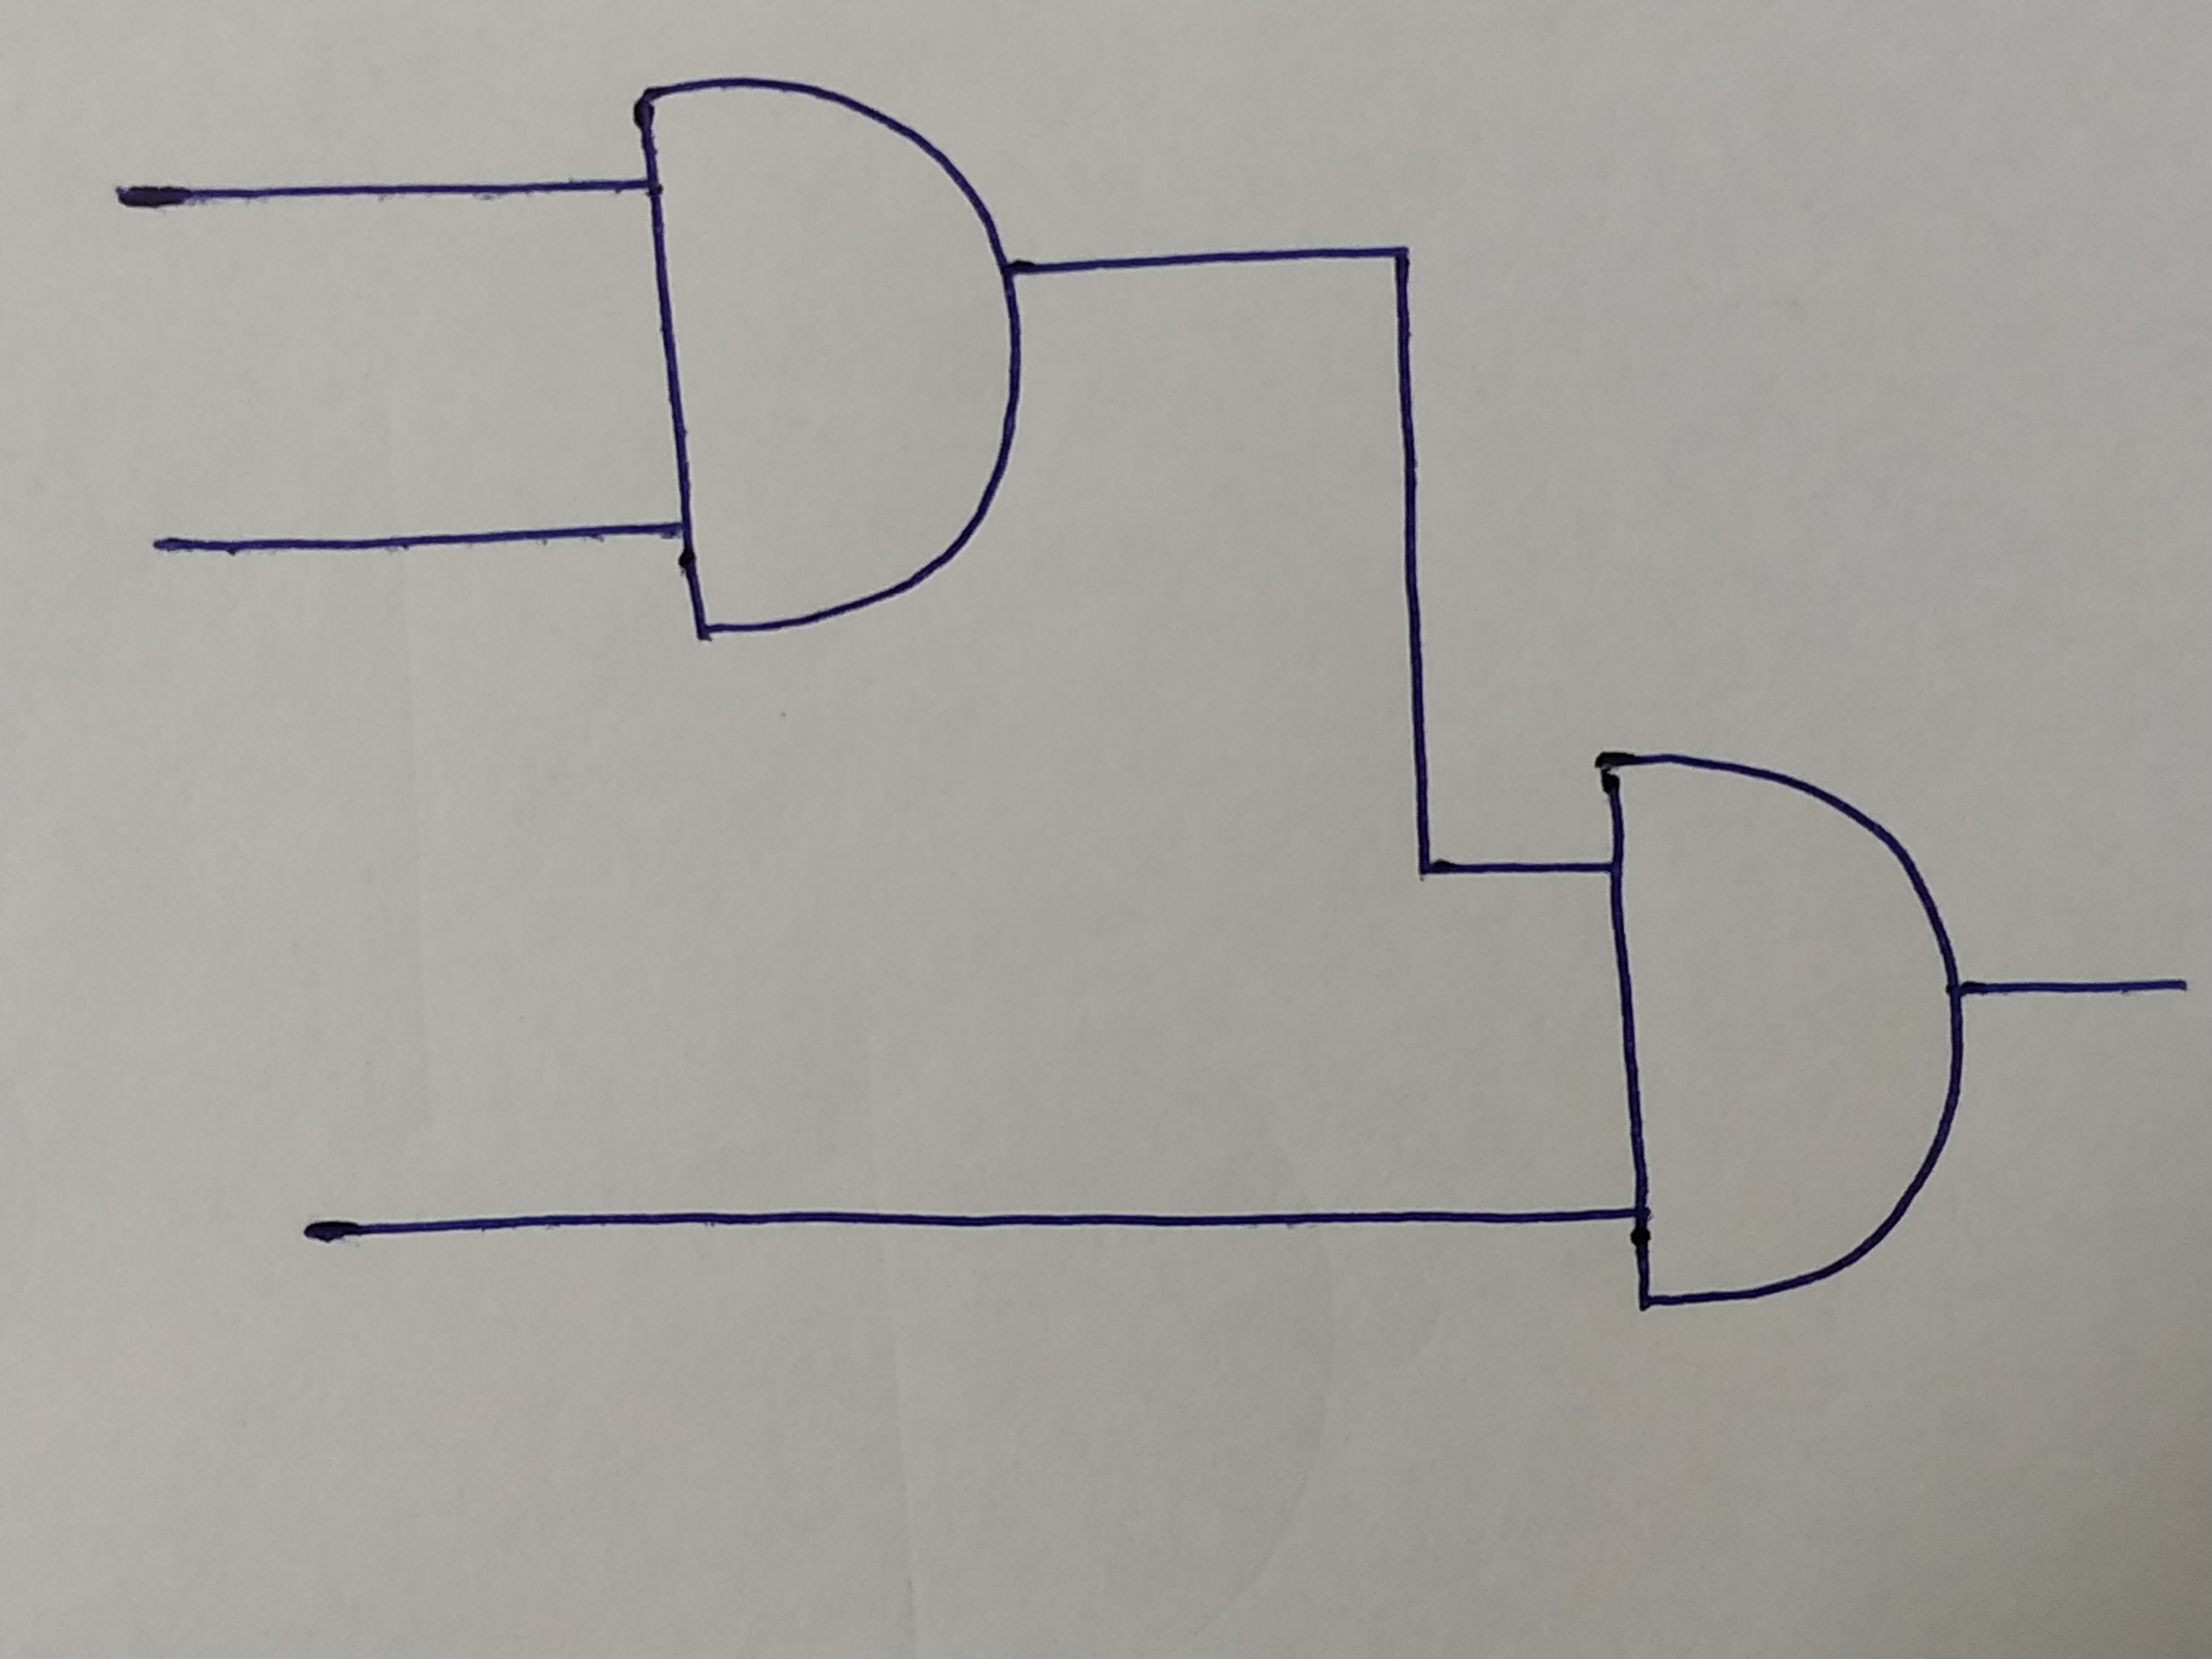and: (637, 78, 1021, 631), (1594, 751, 1966, 1309)
